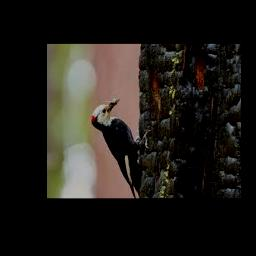Woodpecker: (92, 96, 151, 199)
